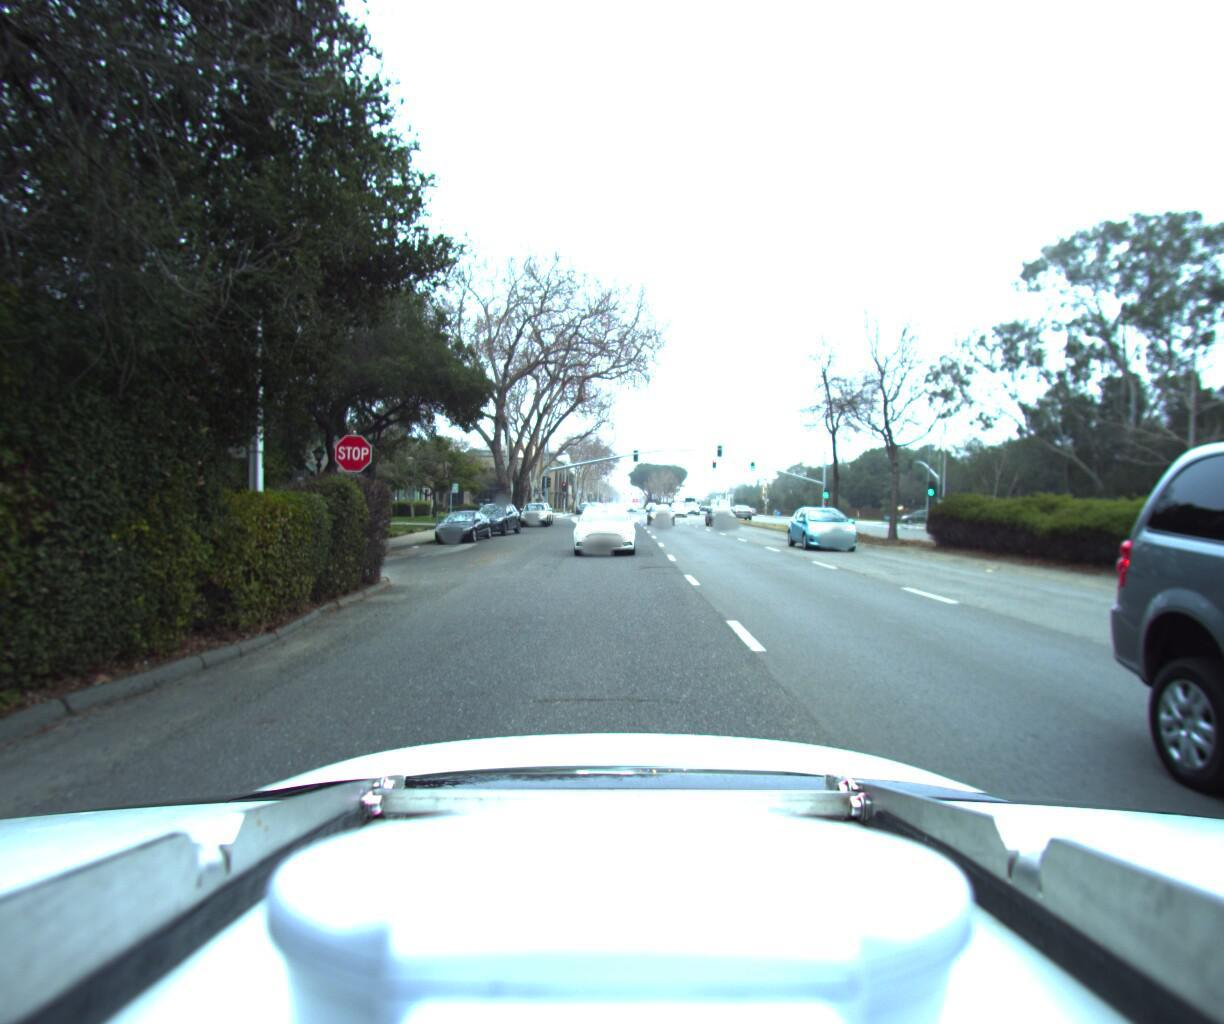car: (791, 499, 878, 550), (566, 494, 640, 551), (427, 501, 498, 538), (464, 494, 525, 531), (706, 499, 743, 524), (521, 493, 552, 521), (649, 496, 680, 521), (727, 497, 753, 513)
